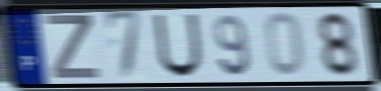0: (262, 10, 307, 80)
7: (102, 8, 143, 85)
8: (316, 10, 360, 79)
9: (212, 12, 251, 78)
U: (151, 12, 204, 79)
Z: (43, 13, 103, 81)
